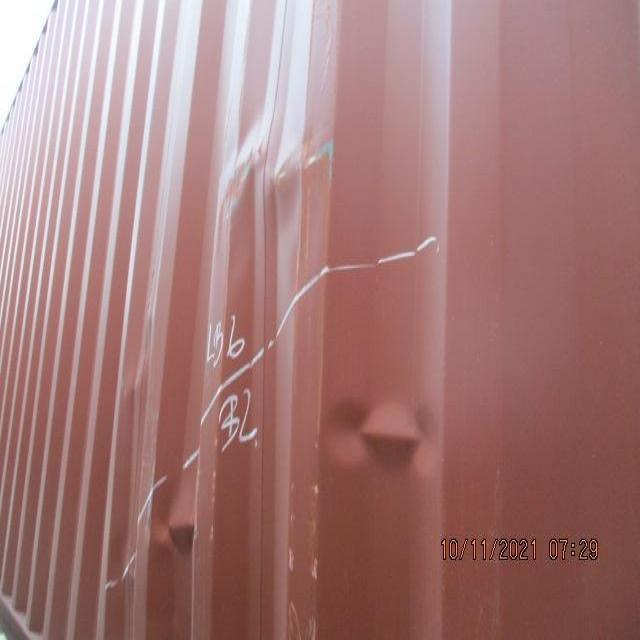dent: (109, 97, 455, 595)
